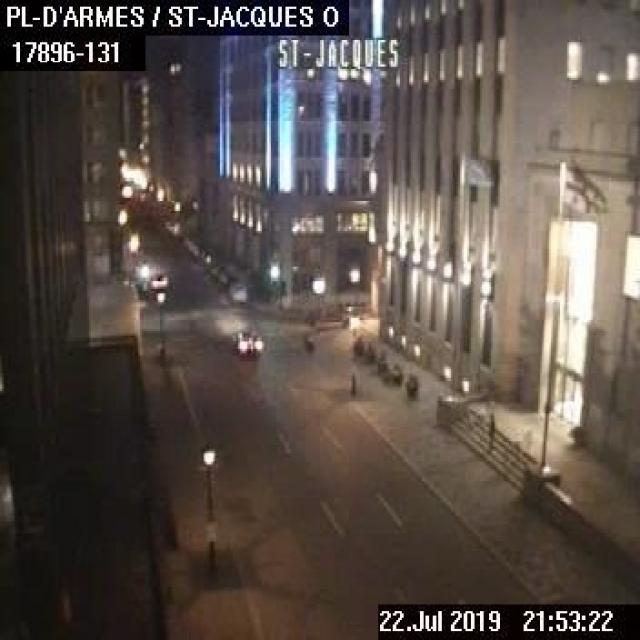pedestrian: (486, 408, 494, 449)
vehicle: (231, 330, 262, 353), (227, 282, 246, 302), (148, 272, 167, 287)
